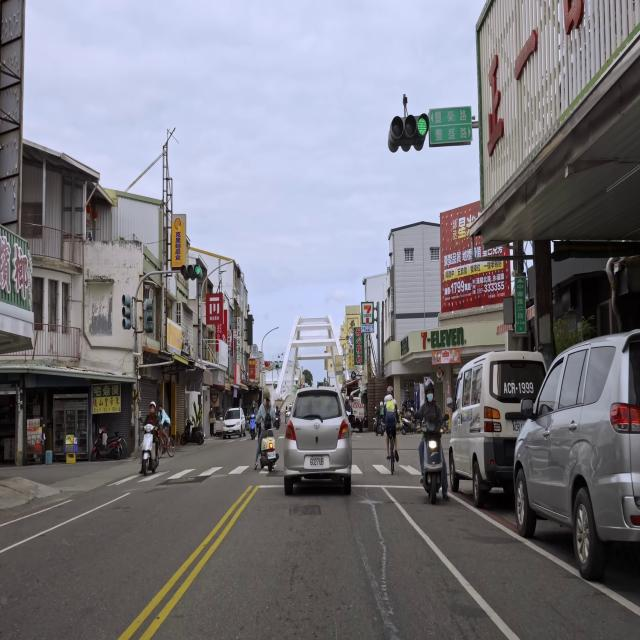green light: (389, 114, 430, 140), (181, 262, 200, 278)
